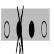correct: (29, 18, 35, 41)
no answer: (3, 17, 11, 41)
not correct: (15, 1, 24, 54)
